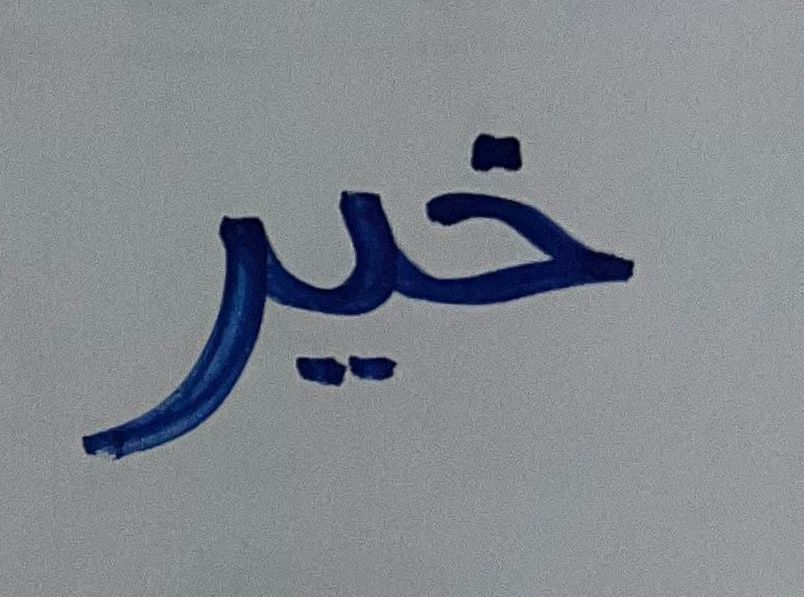khah: (414, 89, 649, 343)
reh: (77, 190, 264, 475)
yeh: (268, 167, 409, 419)
